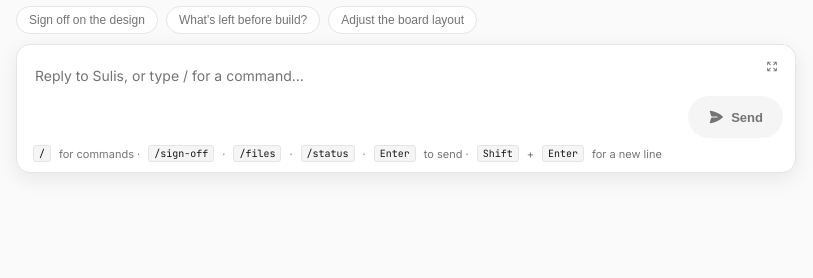
it: <Composer /> — the docked write surface (signed contract) › sends on Enter and renders the founder's own message in a neutral bubble
Type "Now wire the brain view." into the text box named "message this change's agent" at point(354, 98), box [29,57,678,138]
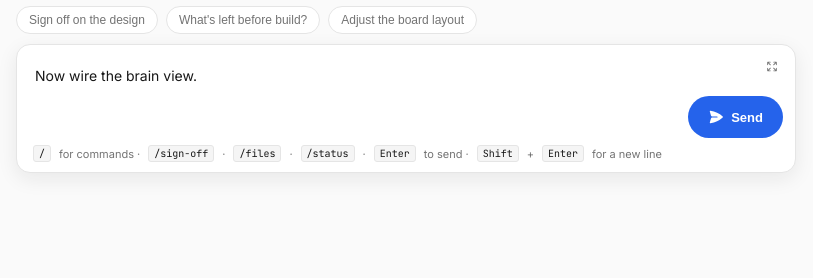
Press Enter in the text box named "message this change's agent", box [29,57,678,138]
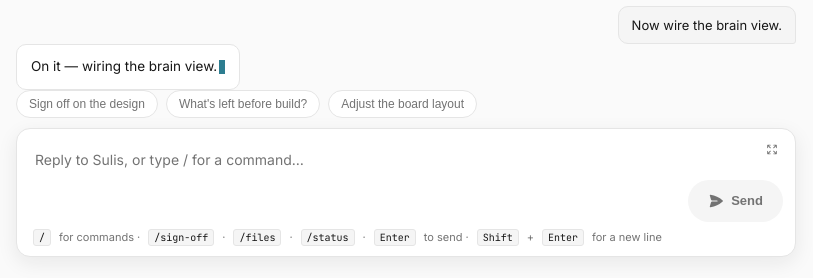
Expected: the text with test id "user-message" reads "Now wire the brain view.", [632,17,782,33]
